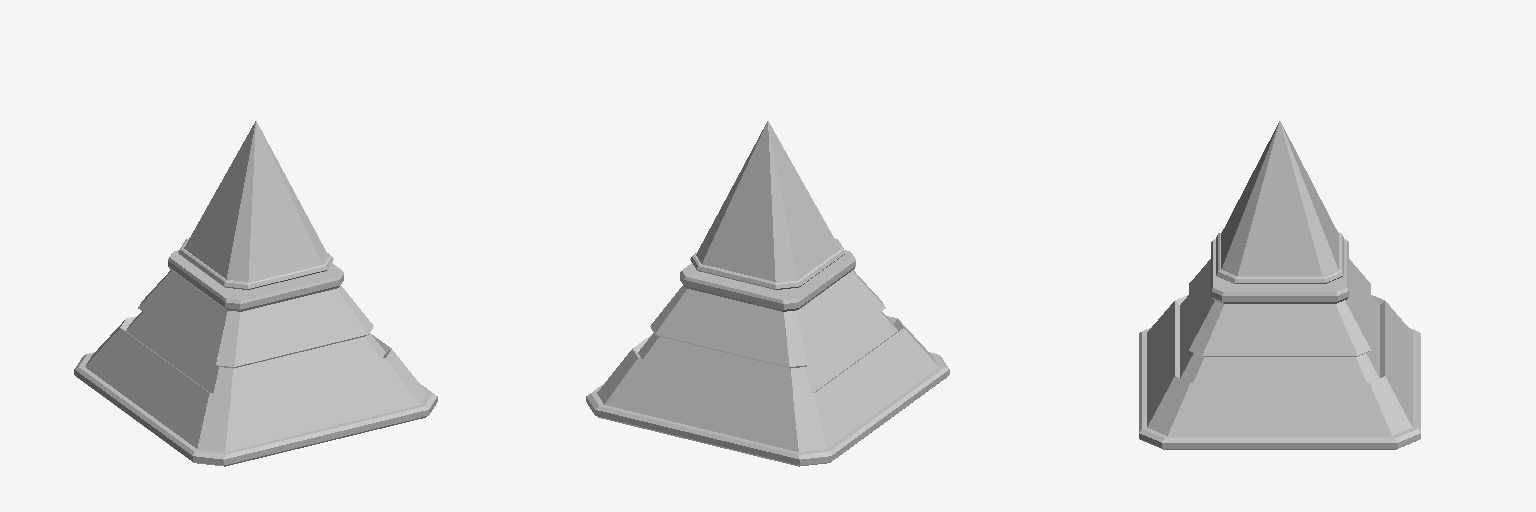
File: pillar-5.obj
The picture shows the model from 3 angles: view 1: azimuth 30°, elevation 25°; view 2: azimuth 150°, elevation 25°; view 3: azimuth 270°, elevation 25°; orthographic projection.
Visible parts, largest first — view 1: cube_8; view 2: cube_8; view 3: cube_8.
Boxes of the visible parts, x1,y1,x2,y2 form: cube_8: [74, 121, 437, 466]; cube_8: [586, 121, 949, 466]; cube_8: [1139, 121, 1420, 449].
Size of the model in its own units: 1.04 by 1.11 by 1.04.